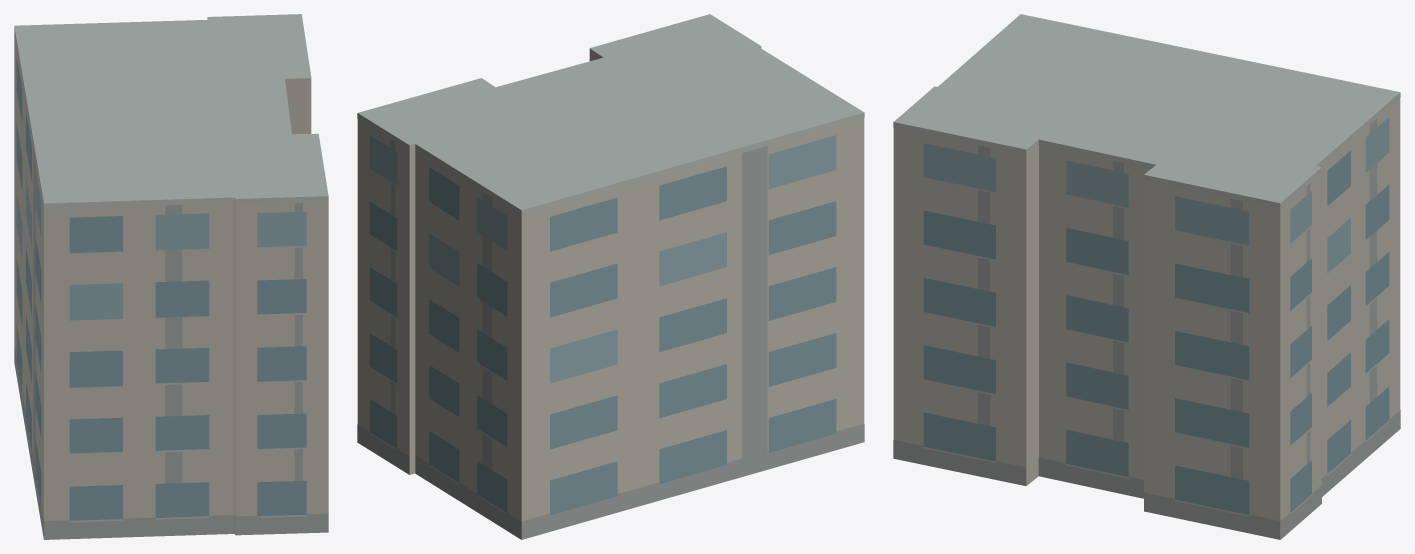
Rendered from survey-upis-32886623.glb.
3 renders of one model, left to right at view 1: azimuth 30°, elevation 25°; view 2: azimuth 150°, elevation 25°; view 3: azimuth 270°, elevation 25°, orthographic. The views are drawn at different scales.
Parts seen in each view (by area): view 1: survey-upis-32886623.tmp; view 2: survey-upis-32886623.tmp; view 3: survey-upis-32886623.tmp.
Boxes of the visible parts, <box> form: survey-upis-32886623.tmp: <box>14,14,328,539</box>; survey-upis-32886623.tmp: <box>357,14,864,539</box>; survey-upis-32886623.tmp: <box>893,14,1400,539</box>.
Size of the model in its own units: 17.01 by 14.1 by 19.25.
